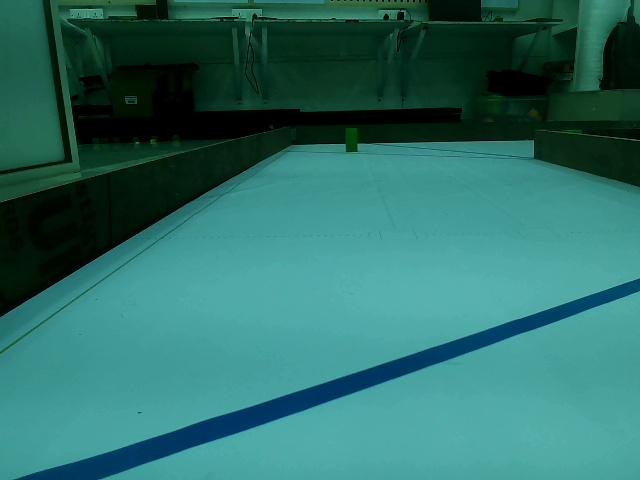green: (346, 127, 360, 155)
